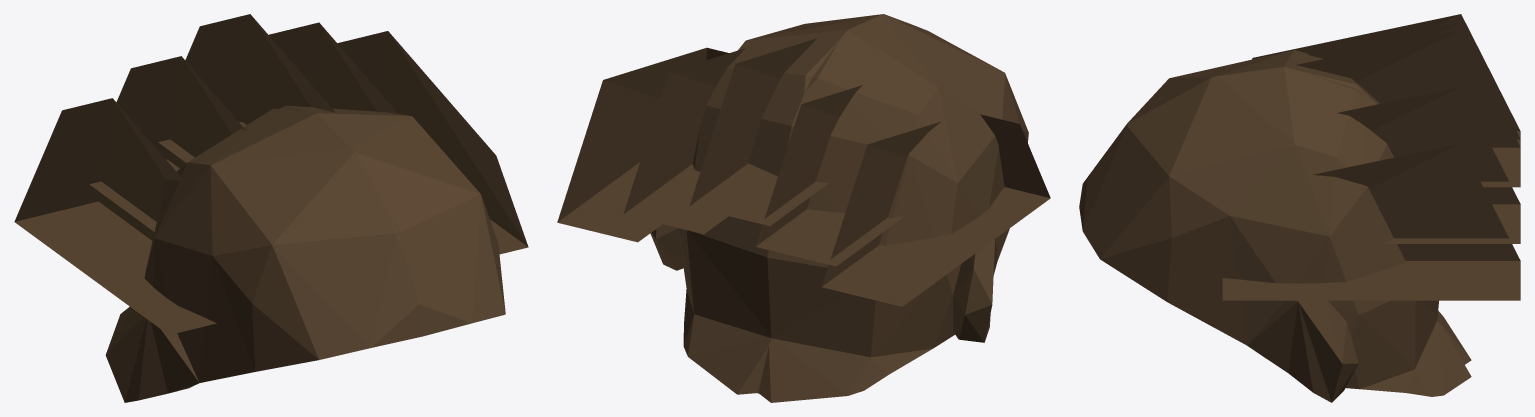
File: hair.glb
3 views of the same model, side by side, from view 1: azimuth 30°, elevation 25°; view 2: azimuth 150°, elevation 25°; view 3: azimuth 270°, elevation 25° (orthographic). The views are drawn at different scales.
Visible parts, largest first — view 1: Module_hair; view 2: Module_hair; view 3: Module_hair.
Part boxes in pixels (x1,y1,x2,y2): Module_hair: (14, 14, 528, 402); Module_hair: (557, 14, 1050, 402); Module_hair: (1079, 14, 1520, 402).
Size of the model in its own units: 0.1893 by 0.1693 by 0.2074.
